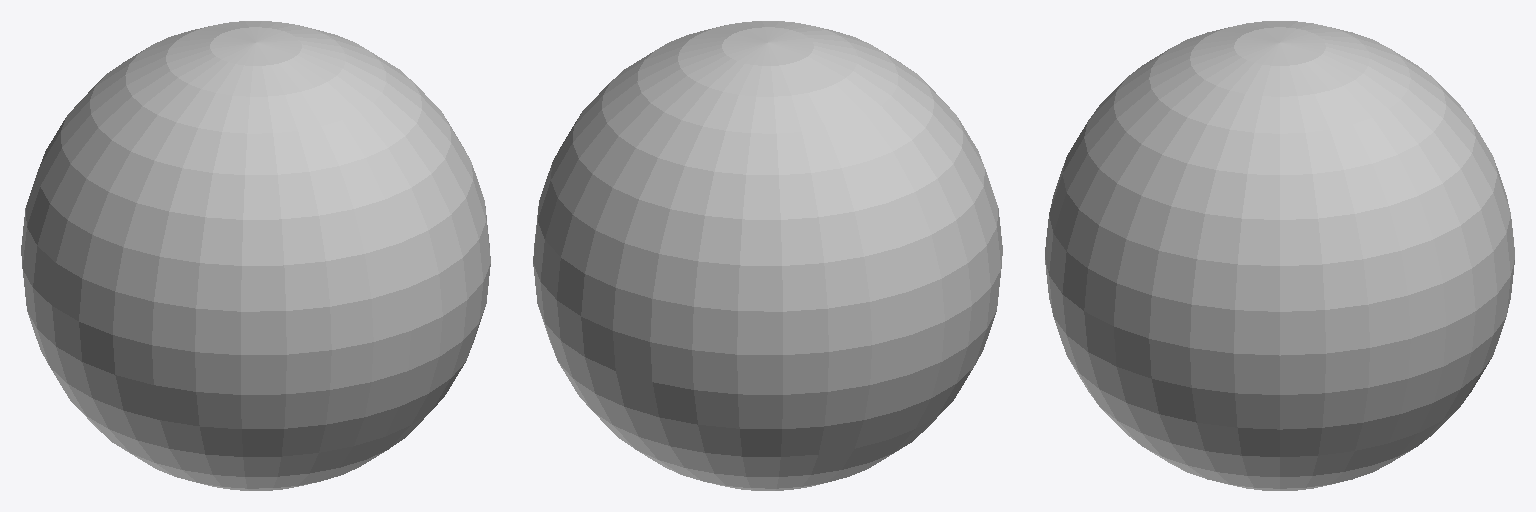
Rendered from pooball_ok.obj.
The picture shows the model from 3 angles: view 1: azimuth 30°, elevation 25°; view 2: azimuth 150°, elevation 25°; view 3: azimuth 270°, elevation 25°; orthographic projection.
Parts seen in each view (by area): view 1: Sphere; view 2: Sphere; view 3: Sphere.
Part boxes in pixels (bbox=[...]): Sphere: bbox=[21, 21, 490, 490]; Sphere: bbox=[533, 21, 1002, 490]; Sphere: bbox=[1045, 21, 1514, 490].
Bounding box in the file's own units: 5.33 × 5.33 × 5.33.